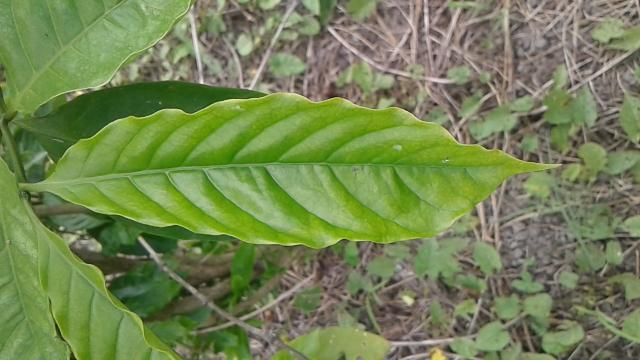healthy: (45, 96, 552, 250)
